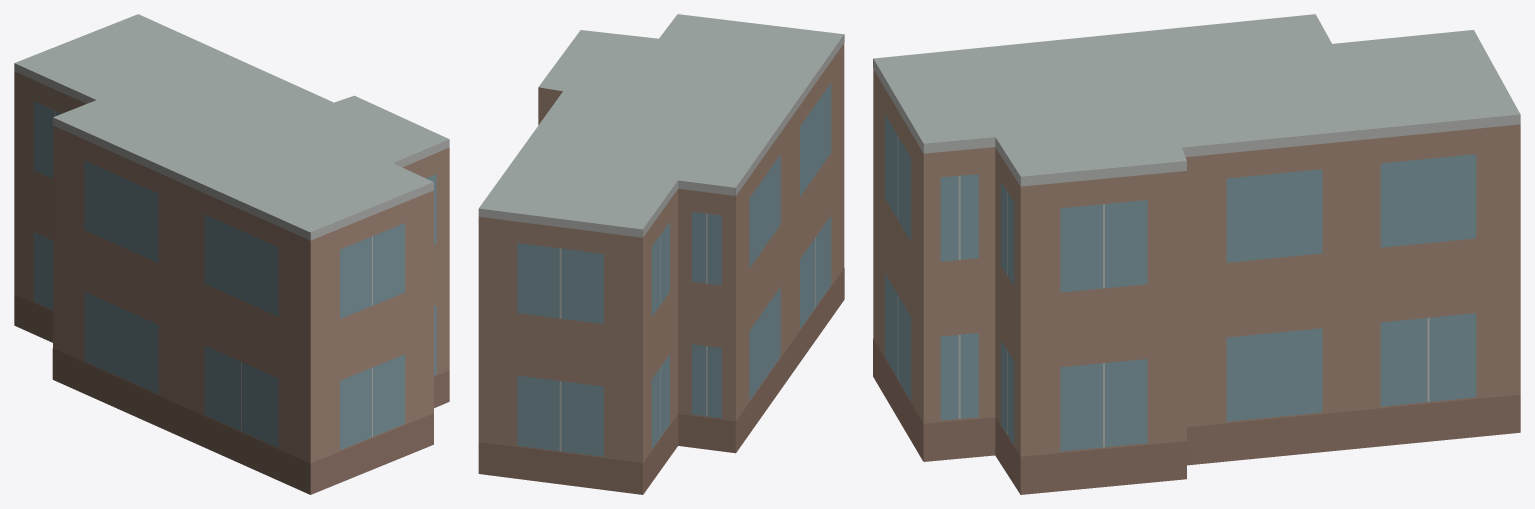
File: survey-upis-32492825.glb
3 renders of one model, left to right at view 1: azimuth 30°, elevation 25°; view 2: azimuth 150°, elevation 25°; view 3: azimuth 270°, elevation 25°, orthographic. The views are drawn at different scales.
Visible parts, largest first — view 1: survey-upis-32492825.tmp; view 2: survey-upis-32492825.tmp; view 3: survey-upis-32492825.tmp.
Boxes of the visible parts, box(x1,y1,x2,y2) form: survey-upis-32492825.tmp: box(14, 14, 449, 494); survey-upis-32492825.tmp: box(478, 14, 844, 494); survey-upis-32492825.tmp: box(873, 14, 1520, 494).
Size of the model in its own units: 8.68 by 7.9 by 14.59.
